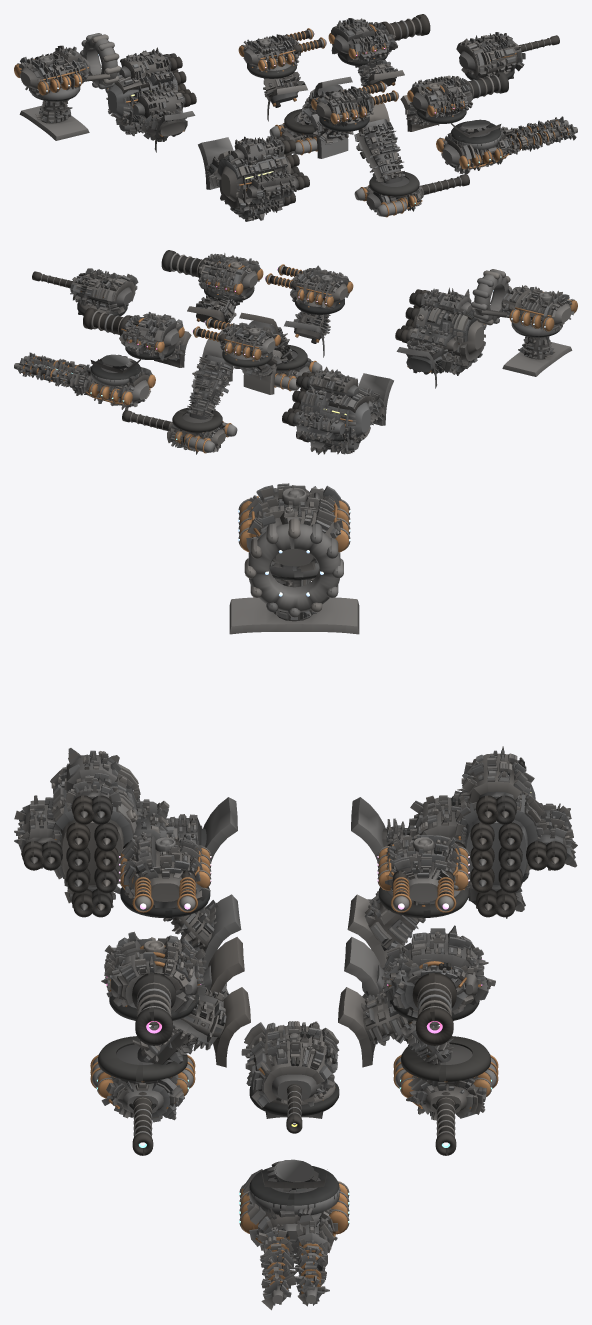
File: arsenal.glb
3 renders of one model, top to bottom at view 1: azimuth 30°, elevation 25°; view 2: azimuth 150°, elevation 25°; view 3: azimuth 270°, elevation 25°, orthographic. The views are drawn at different scales.
Visible parts, largest first — view 1: arsenal__singularity-aft-projector__1, arsenal__railgun-ventral-spine__1, root__cryo-starboard-coolant, arsenal__plasma-port-shoulder__1, arsenal__plasma-starboard-shoulder__1, arsenal__pulse-prow__1, arsenal__swarm-starboard-battery__1, arsenal__swarm-port-battery__1, arsenal__tesla-starboard-coils__1, arsenal__tesla-port-coils__1, arsenal__cryo-starboard-coolant__1, root__singularity-aft-projector (+14 smaller); view 2: arsenal__singularity-aft-projector__1, arsenal__railgun-ventral-spine__1, root__cryo-port-coolant, arsenal__plasma-port-shoulder__1, arsenal__plasma-starboard-shoulder__1, arsenal__pulse-prow__1, arsenal__swarm-starboard-battery__1, arsenal__swarm-port-battery__1, arsenal__tesla-starboard-coils__1, arsenal__tesla-port-coils__1, arsenal__cryo-port-coolant__1, root__singularity-aft-projector (+14 smaller); view 3: arsenal__singularity-aft-projector__1, arsenal__plasma-port-shoulder__1, arsenal__plasma-starboard-shoulder__1, arsenal__railgun-ventral-spine__1, arsenal__pulse-prow__1, arsenal__swarm-starboard-battery__1, arsenal__swarm-port-battery__1, arsenal__tesla-starboard-coils__1, arsenal__tesla-port-coils__1, root__cryo-port-coolant, root__cryo-starboard-coolant, arsenal__cryo-starboard-coolant__1 (+17 smaller).
Boxes of the visible parts, x1=… form: arsenal__singularity-aft-projector__1: x1=19, y1=33, x2=120, y2=100; arsenal__railgun-ventral-spine__1: x1=441, y1=116, x2=577, y2=173; root__cryo-starboard-coolant: x1=354, y1=102, x2=419, y2=196; arsenal__plasma-port-shoulder__1: x1=330, y1=14, x2=430, y2=61; arsenal__plasma-starboard-shoulder__1: x1=410, y1=71, x2=508, y2=117; arsenal__pulse-prow__1: x1=456, y1=32, x2=559, y2=78; arsenal__swarm-starboard-battery__1: x1=217, y1=150, x2=299, y2=211; arsenal__swarm-port-battery__1: x1=106, y1=66, x2=186, y2=126; arsenal__tesla-starboard-coils__1: x1=314, y1=81, x2=399, y2=126; arsenal__tesla-port-coils__1: x1=241, y1=28, x2=327, y2=71; arsenal__cryo-starboard-coolant__1: x1=354, y1=174, x2=469, y2=217; root__singularity-aft-projector: x1=19, y1=94, x2=89, y2=140; arsenal__singularity-aft-projector__1: x1=471, y1=269, x2=574, y2=336; arsenal__railgun-ventral-spine__1: x1=14, y1=352, x2=151, y2=410; root__cryo-port-coolant: x1=172, y1=338, x2=233, y2=432; arsenal__plasma-port-shoulder__1: x1=83, y1=307, x2=183, y2=360; arsenal__plasma-starboard-shoulder__1: x1=161, y1=250, x2=260, y2=298; arsenal__pulse-prow__1: x1=32, y1=268, x2=138, y2=313; arsenal__swarm-starboard-battery__1: x1=405, y1=305, x2=485, y2=366; arsenal__swarm-port-battery__1: x1=292, y1=385, x2=373, y2=445; arsenal__tesla-starboard-coils__1: x1=264, y1=264, x2=349, y2=309; arsenal__tesla-port-coils__1: x1=192, y1=317, x2=277, y2=361; arsenal__cryo-port-coolant__1: x1=122, y1=410, x2=237, y2=454; root__singularity-aft-projector: x1=502, y1=330, x2=572, y2=376; arsenal__singularity-aft-projector__1: x1=244, y1=483, x2=343, y2=617; arsenal__plasma-port-shoulder__1: x1=381, y1=925, x2=495, y2=1045; arsenal__plasma-starboard-shoulder__1: x1=101, y1=931, x2=206, y2=1045; arsenal__railgun-ventral-spine__1: x1=243, y1=1169, x2=340, y2=1310; arsenal__pulse-prow__1: x1=241, y1=1021, x2=339, y2=1133; arsenal__swarm-starboard-battery__1: x1=50, y1=763, x2=142, y2=893; arsenal__swarm-port-battery__1: x1=454, y1=772, x2=546, y2=893; arsenal__tesla-starboard-coils__1: x1=120, y1=830, x2=210, y2=912; arsenal__tesla-port-coils__1: x1=385, y1=835, x2=461, y2=912; root__cryo-port-coolant: x1=344, y1=937, x2=490, y2=1082; root__cryo-starboard-coolant: x1=98, y1=937, x2=244, y2=1082; arsenal__cryo-starboard-coolant__1: x1=90, y1=1044, x2=195, y2=1155.
Size of the model in its own units: 20.03 by 7.77 by 10.05.
